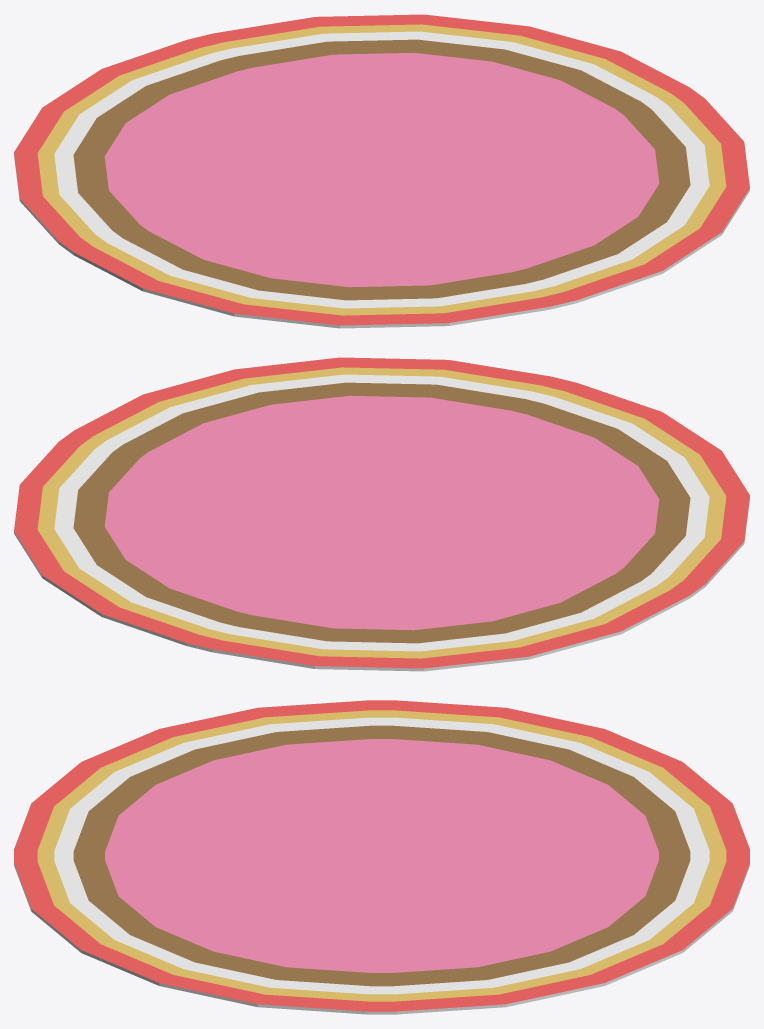
The model's file is Carpet_5.fbx.
3 renders of one model, top to bottom at view 1: azimuth 30°, elevation 25°; view 2: azimuth 150°, elevation 25°; view 3: azimuth 270°, elevation 25°, orthographic.
Parts seen in each view (by area): view 1: Carpet_5; view 2: Carpet_5; view 3: Carpet_5.
Part boxes in pixels (bbox=[...]): Carpet_5: bbox=[14, 14, 749, 328]; Carpet_5: bbox=[14, 357, 749, 671]; Carpet_5: bbox=[14, 700, 749, 1014].
Bounding box in the file's own units: 1.45 × 0.0065 × 1.45.
